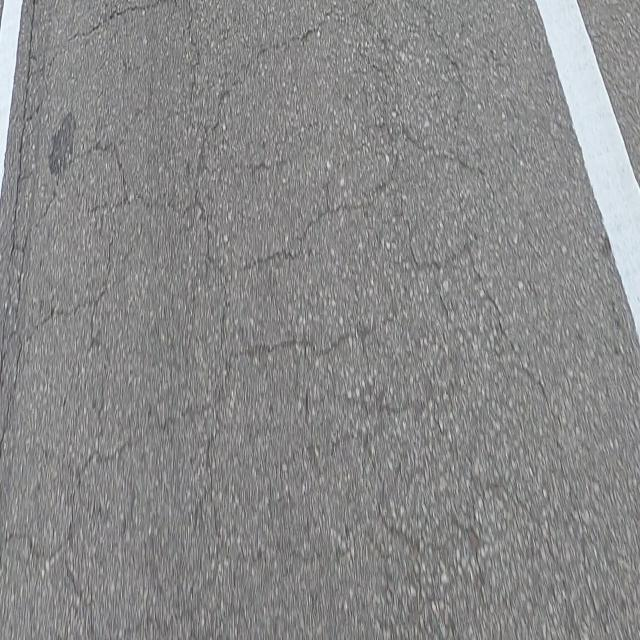Retak-Buaya: (0, 0, 566, 627)
Retak-Memanjang: (7, 1, 33, 262)
